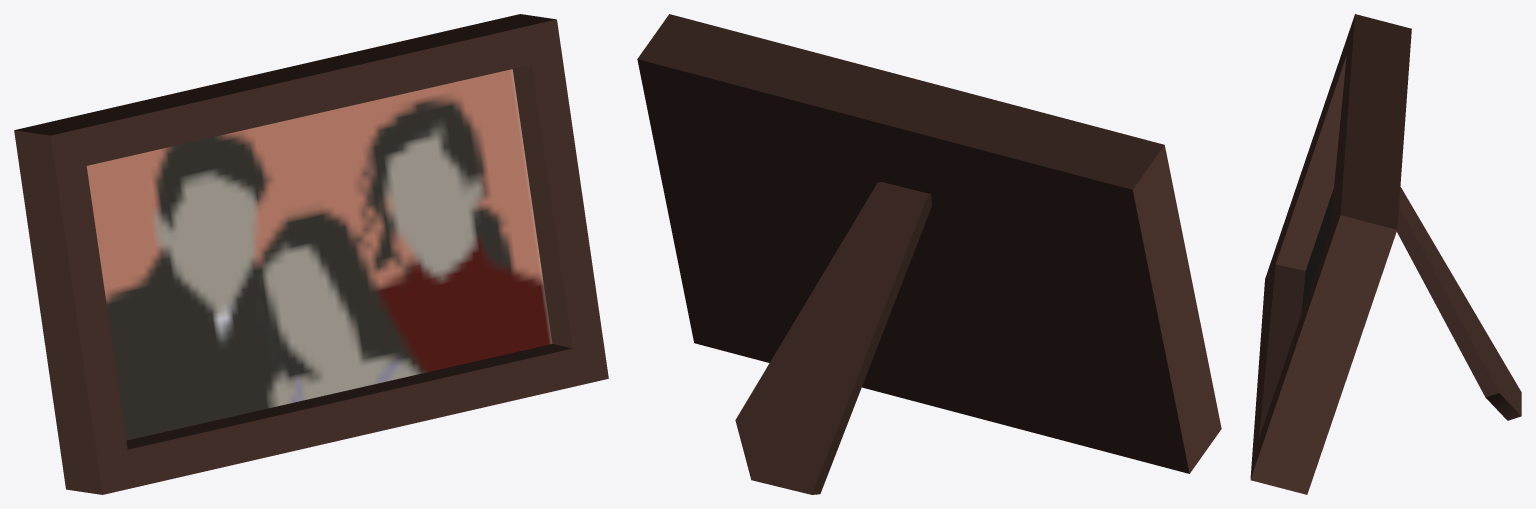
File: SM_Prop_FamilyPhoto_03.obj
3 renders of one model, left to right at view 1: azimuth 30°, elevation 25°; view 2: azimuth 150°, elevation 25°; view 3: azimuth 270°, elevation 25°, orthographic. The views are drawn at different scales.
Visible parts, largest first — view 1: SM_Prop_FamilyPhoto_03_Mat_SwatchOverlay_Farm_Main_01_Inst; view 2: SM_Prop_FamilyPhoto_03_Mat_SwatchOverlay_Farm_Main_01_Inst; view 3: SM_Prop_FamilyPhoto_03_Mat_SwatchOverlay_Farm_Main_01_Inst.
Part boxes in pixels (box(x1,y1,x2,y2)): SM_Prop_FamilyPhoto_03_Mat_SwatchOverlay_Farm_Main_01_Inst: box(14, 14, 608, 494); SM_Prop_FamilyPhoto_03_Mat_SwatchOverlay_Farm_Main_01_Inst: box(637, 14, 1221, 494); SM_Prop_FamilyPhoto_03_Mat_SwatchOverlay_Farm_Main_01_Inst: box(1250, 14, 1521, 494).
Size of the model in its own units: 0.3943 by 0.2548 by 0.2213.
1 material, 1 textured.
